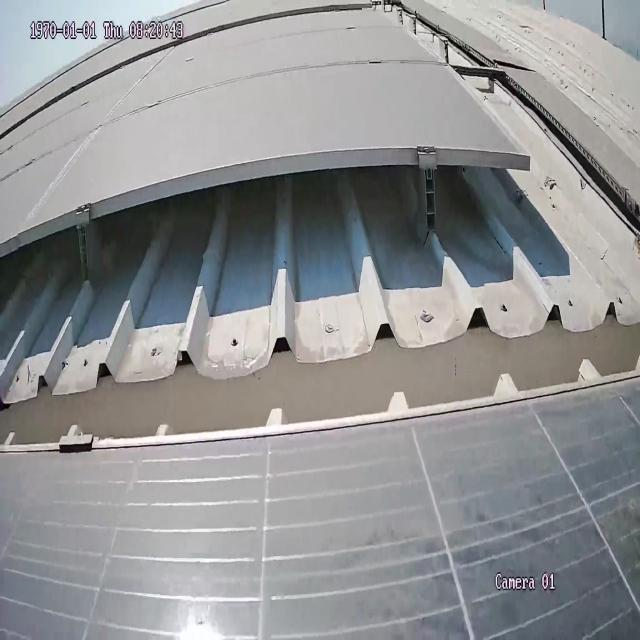outher panel: (0, 0, 640, 449)
